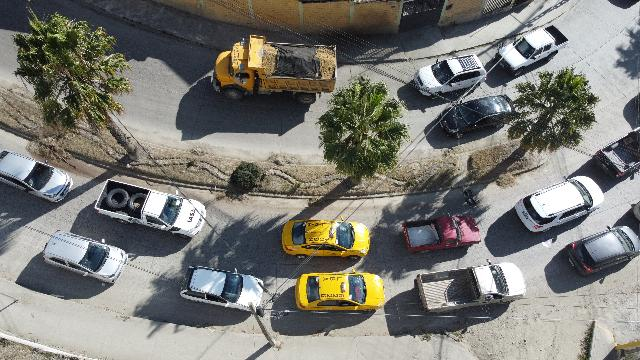Vehiculo: (94, 179, 206, 239), (416, 259, 526, 313), (514, 175, 604, 233), (42, 230, 128, 284), (180, 266, 264, 316), (295, 267, 385, 311), (564, 225, 640, 277), (0, 149, 72, 203), (282, 216, 370, 260), (496, 25, 568, 76), (438, 94, 514, 138), (414, 54, 488, 98), (402, 213, 482, 253), (593, 127, 639, 179)
